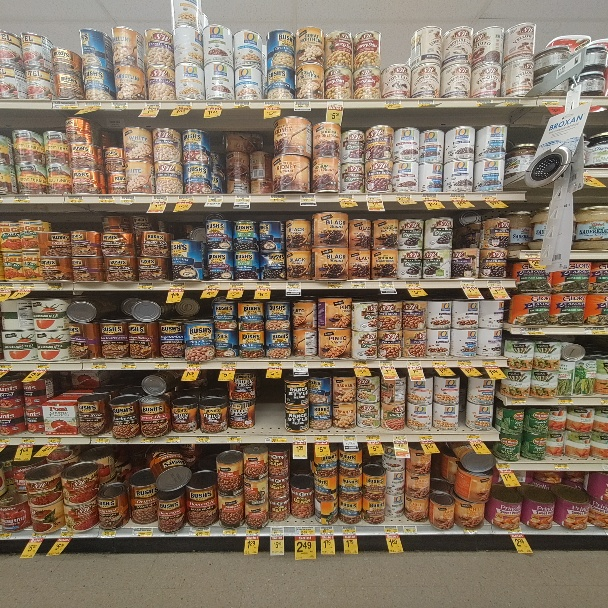All PRICE TAGS: (520, 327, 544, 335), (190, 527, 211, 536), (584, 327, 607, 335), (293, 101, 311, 111), (54, 102, 77, 109), (266, 435, 286, 443), (295, 527, 315, 535), (133, 528, 152, 536), (99, 529, 117, 537), (504, 99, 522, 107), (557, 397, 575, 405), (543, 99, 559, 107), (47, 282, 63, 290), (554, 463, 570, 471), (525, 251, 541, 259), (418, 99, 436, 106), (89, 362, 107, 369), (270, 527, 285, 535), (319, 526, 334, 534), (342, 526, 357, 534), (165, 436, 182, 443), (510, 398, 527, 405), (111, 102, 128, 109), (264, 101, 281, 108), (169, 282, 186, 289), (481, 359, 498, 366), (222, 528, 238, 535), (19, 283, 35, 290), (145, 102, 161, 109), (327, 101, 343, 108), (477, 98, 493, 105), (207, 195, 223, 202), (235, 195, 251, 202), (270, 194, 286, 201), (366, 194, 382, 201), (422, 193, 438, 200), (138, 282, 154, 289), (221, 361, 237, 368), (65, 196, 83, 202), (402, 526, 417, 533), (496, 462, 511, 469), (179, 195, 194, 202), (300, 194, 315, 201), (205, 282, 220, 289), (328, 281, 343, 288), (350, 281, 365, 288), (379, 281, 394, 288), (461, 280, 476, 287), (93, 436, 108, 443), (140, 437, 157, 443), (13, 197, 30, 203), (85, 102, 102, 108), (206, 102, 223, 108), (384, 100, 401, 106), (293, 434, 307, 441), (367, 433, 381, 440), (384, 526, 398, 533), (21, 438, 35, 445), (339, 194, 353, 201), (256, 282, 270, 289), (488, 280, 502, 287), (226, 436, 242, 442), (234, 102, 250, 108), (1, 363, 13, 371), (46, 438, 62, 444), (507, 529, 523, 535), (175, 102, 191, 108), (152, 196, 168, 202), (396, 194, 412, 200), (451, 194, 467, 200), (483, 193, 499, 199), (456, 360, 472, 366), (195, 436, 210, 442), (35, 364, 50, 370), (31, 533, 46, 539), (245, 530, 260, 536), (99, 196, 114, 202), (120, 196, 135, 202), (230, 282, 245, 288), (286, 282, 301, 288), (406, 281, 421, 287), (121, 362, 136, 368), (187, 362, 202, 368), (321, 360, 336, 366), (406, 360, 421, 366), (432, 360, 447, 366), (1, 531, 12, 539), (315, 435, 329, 441), (343, 434, 357, 440), (419, 434, 433, 440), (0, 284, 14, 290), (155, 362, 169, 368), (268, 361, 282, 367), (294, 360, 308, 366), (354, 360, 368, 366), (379, 360, 393, 366), (394, 434, 407, 440), (61, 532, 74, 538), (467, 434, 481, 439), (0, 438, 9, 444), (600, 398, 607, 405)
